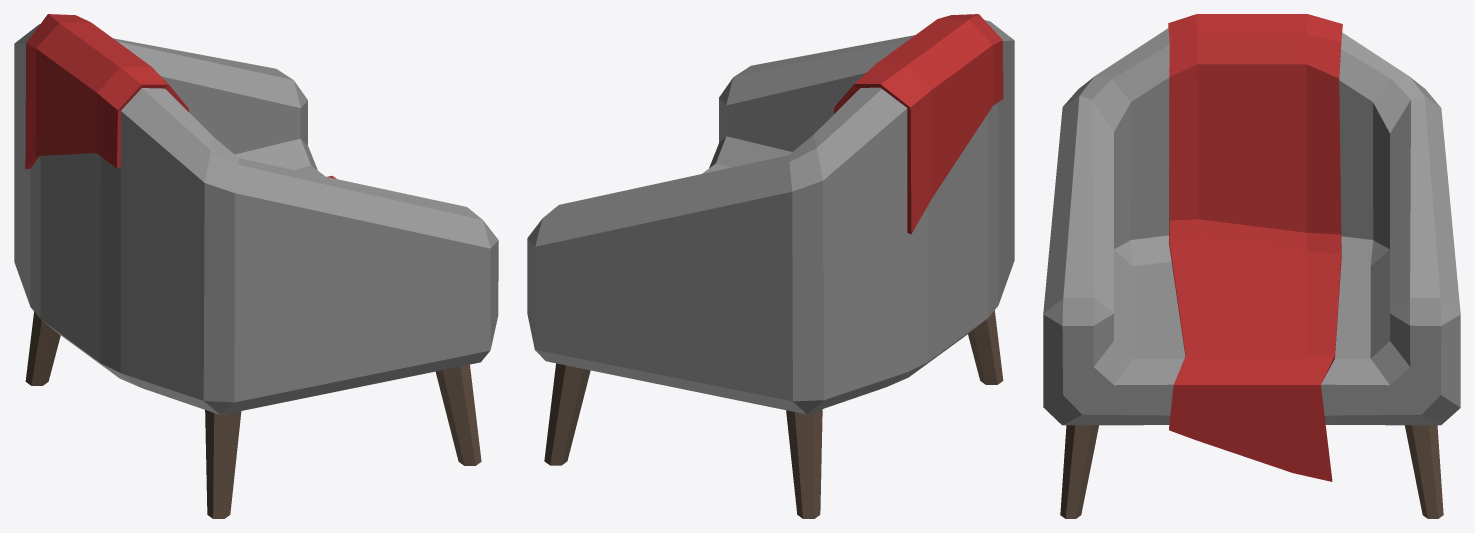
The model's file is Armchair_2.fbx.
The picture shows the model from 3 angles, left to right: view 1: azimuth 30°, elevation 25°; view 2: azimuth 150°, elevation 25°; view 3: azimuth 270°, elevation 25°; orthographic projection. The views are drawn at different scales.
Visible parts, largest first — view 1: Armchair_2; view 2: Armchair_2; view 3: Armchair_2.
Part boxes in pixels (x1,y1,x2,y2): Armchair_2: [14, 14, 498, 518]; Armchair_2: [527, 14, 1014, 518]; Armchair_2: [1043, 14, 1460, 518].
Bounding box in the file's own units: 96.72 × 115 × 114.
